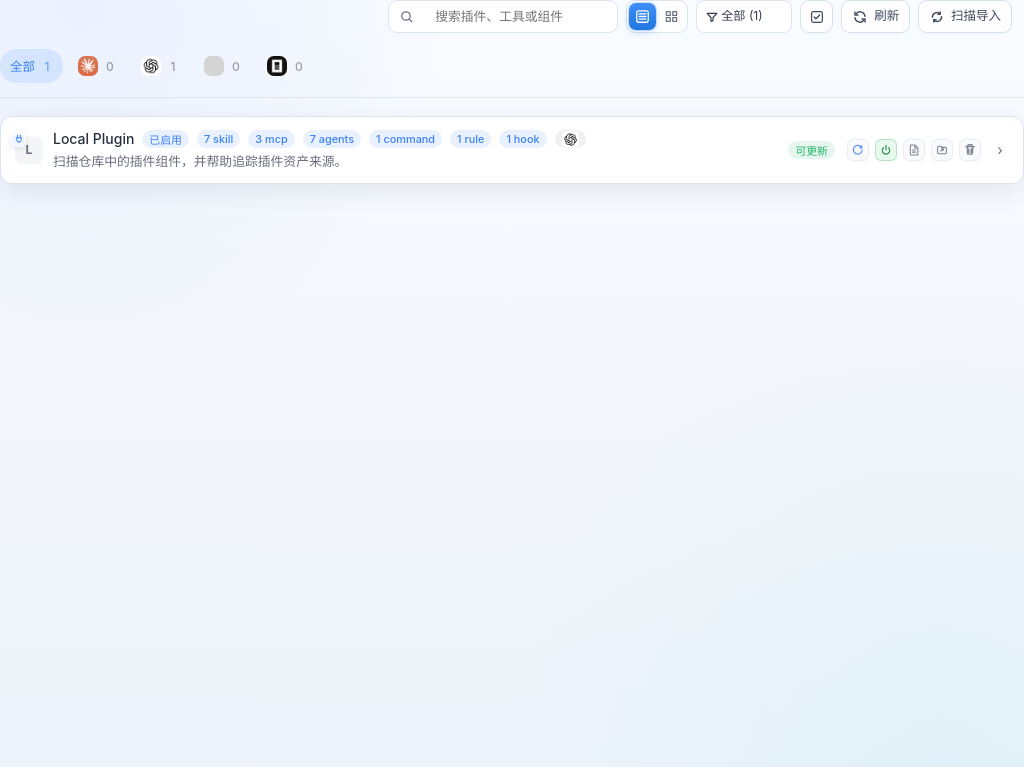
Test: hides remote update metadata for local plugins to match skill details
Expected: the tab "全部 1" is shown, [0,49,63,83]
Click the button with aria-label "展开 Local Plugin" at (392, 150), box [15,130,768,170]
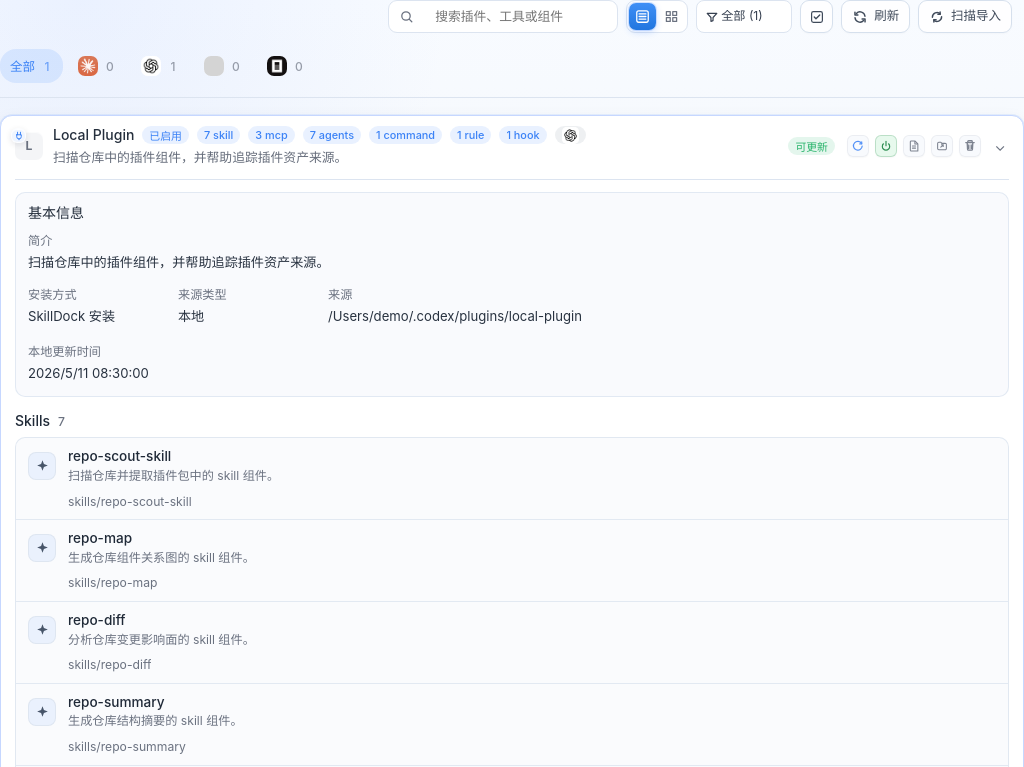
Expected: the text "本地更新时间" is shown, [28,344,101,359]
